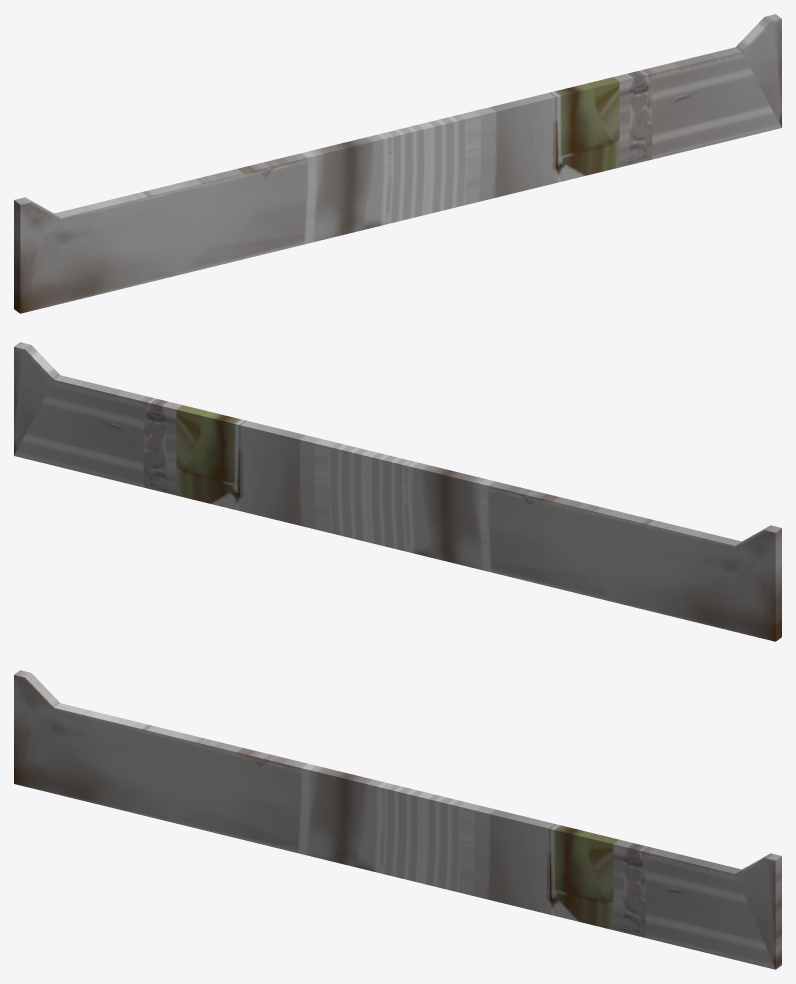
File: HubBalk_COL1.FBX
3 renders of one model, top to bottom at view 1: azimuth 30°, elevation 25°; view 2: azimuth 150°, elevation 25°; view 3: azimuth 330°, elevation 25°, orthographic.
Visible parts, largest first — view 1: HubBalk_COL1; view 2: HubBalk_COL1; view 3: HubBalk_COL1.
Boxes of the visible parts, <box> form: HubBalk_COL1: <box>14,14,781,313</box>; HubBalk_COL1: <box>14,342,781,641</box>; HubBalk_COL1: <box>14,670,781,969</box>.
Size of the model in its own units: 13.89 by 1.9 by 0.1984.
